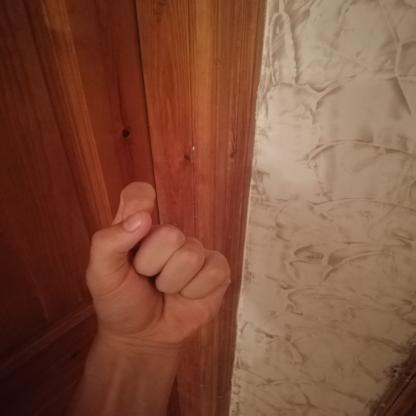FAA: (69, 171, 248, 356)
